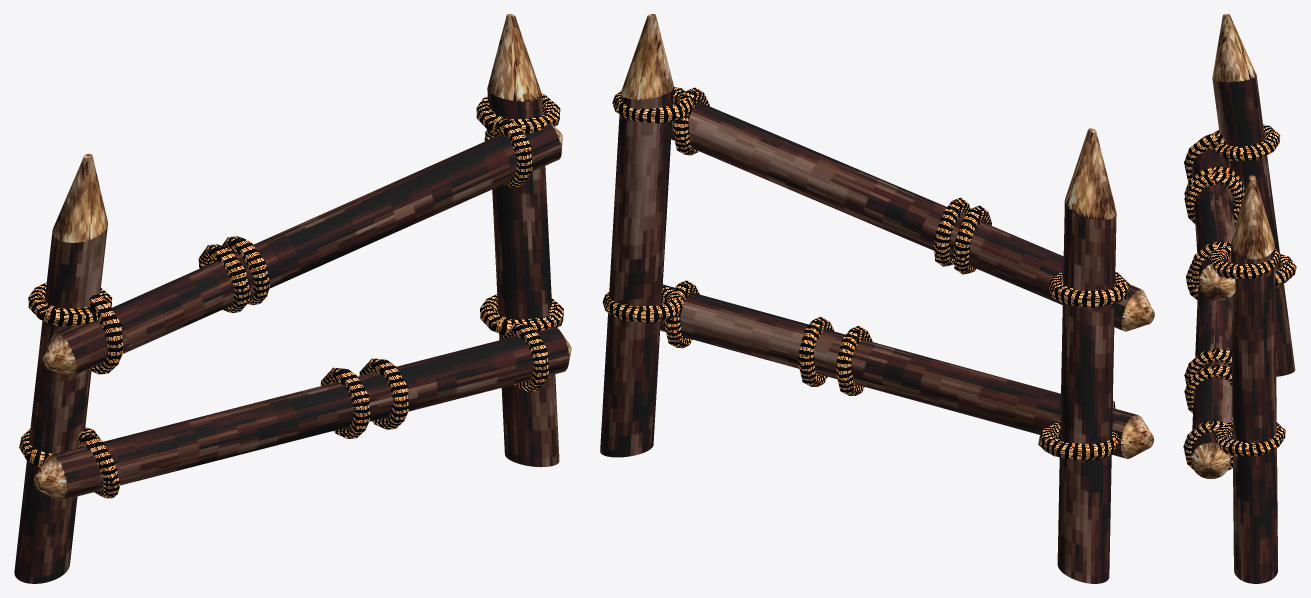
The model's file is stake3.glb.
The picture shows the model from 3 angles, left to right: view 1: azimuth 30°, elevation 25°; view 2: azimuth 150°, elevation 25°; view 3: azimuth 270°, elevation 25°; orthographic projection. The views are drawn at different scales.
Parts seen in each view (by area): view 1: Cylinder.004, Cylinder.001, Cylinder.007, Cylinder.006, Torus.009, Torus.008, Torus.006, Torus.005, Torus.018, Torus.003, Torus.004, Torus.001 (+3 smaller); view 2: Cylinder.006, Cylinder.007, Cylinder.004, Cylinder.001, Torus.006, Torus.016, Torus.003, Torus.002, Torus.008, Torus.009, Torus.005, Torus.007 (+2 smaller); view 3: Cylinder.006, Cylinder.007, Cylinder.001, Cylinder.004, Torus.002, Torus.003, Torus.007, Torus.006, Torus.008, Torus.009, Torus.018, Torus.004 (+4 smaller).
Boxes of the visible parts, x1=… form: Cylinder.004: x1=42, y1=117, x2=562, y2=376; Cylinder.001: x1=34, y1=326, x2=571, y2=500; Cylinder.007: x1=14, y1=153, x2=107, y2=583; Cylinder.006: x1=487, y1=14, x2=559, y2=466; Torus.009: x1=320, y1=367, x2=369, y2=438; Torus.008: x1=359, y1=358, x2=408, y2=429; Torus.006: x1=28, y1=282, x2=112, y2=326; Torus.005: x1=198, y1=244, x2=250, y2=313; Torus.018: x1=88, y1=293, x2=123, y2=374; Torus.003: x1=480, y1=294, x2=563, y2=335; Torus.004: x1=501, y1=323, x2=548, y2=391; Torus.001: x1=484, y1=119, x2=532, y2=187; Cylinder.006: x1=600, y1=14, x2=673, y2=457; Cylinder.007: x1=1057, y1=128, x2=1116, y2=583; Cylinder.004: x1=671, y1=102, x2=1154, y2=331; Cylinder.001: x1=660, y1=284, x2=1153, y2=458; Torus.006: x1=1047, y1=271, x2=1129, y2=307; Torus.016: x1=1038, y1=421, x2=1120, y2=460; Torus.003: x1=602, y1=286, x2=684, y2=322; Torus.002: x1=612, y1=87, x2=693, y2=123; Torus.008: x1=798, y1=316, x2=834, y2=386; Torus.009: x1=836, y1=325, x2=872, y2=395; Torus.005: x1=953, y1=205, x2=991, y2=274; Torus.007: x1=933, y1=197, x2=970, y2=266; Cylinder.006: x1=1231, y1=175, x2=1277, y2=583; Cylinder.007: x1=1212, y1=14, x2=1295, y2=376; Cylinder.001: x1=1191, y1=288, x2=1232, y2=478; Cylinder.004: x1=1192, y1=149, x2=1235, y2=300; Torus.002: x1=1209, y1=242, x2=1280, y2=278; Torus.003: x1=1215, y1=420, x2=1285, y2=455; Torus.007: x1=1184, y1=171, x2=1244, y2=223; Torus.006: x1=1212, y1=124, x2=1280, y2=160; Torus.008: x1=1184, y1=364, x2=1232, y2=413; Torus.009: x1=1184, y1=348, x2=1231, y2=384; Torus.018: x1=1184, y1=131, x2=1225, y2=181; Torus.004: x1=1183, y1=420, x2=1232, y2=470.
Bounding box in the file's own units: 2.16 × 1.74 × 0.459.
16 materials, 16 textured.
